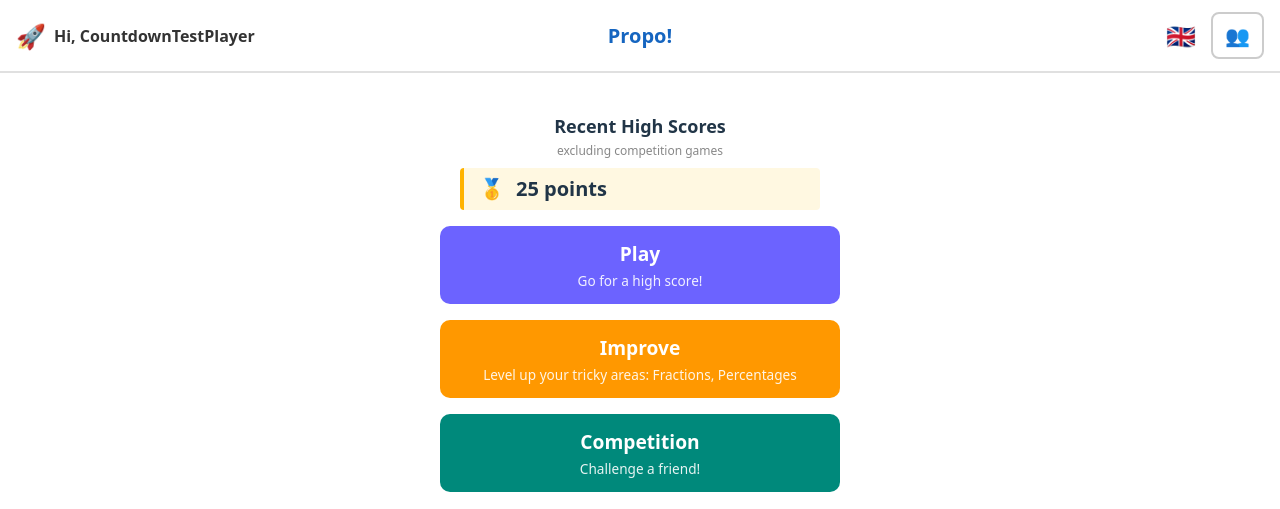
Test: Improve Mode — No Countdown Bar › does not show countdown bar during Improve mode gameplay
This screenshot has width=1280, height=509.
Start Improve mode
Click the button "Improve Level up your tricky areas: Fractions, Percentages" at {"x": 640, "y": 359}, box [440,320,840,398]
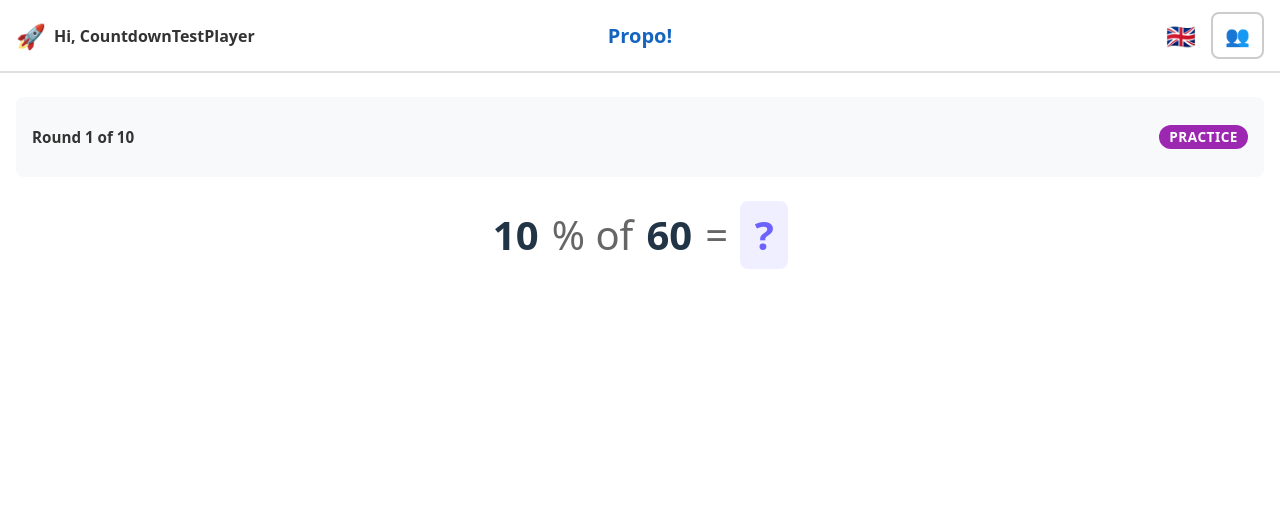
Verify answer submission still works and game records elapsedMs
Type keys "6{Enter}"
Wait 1250 ms
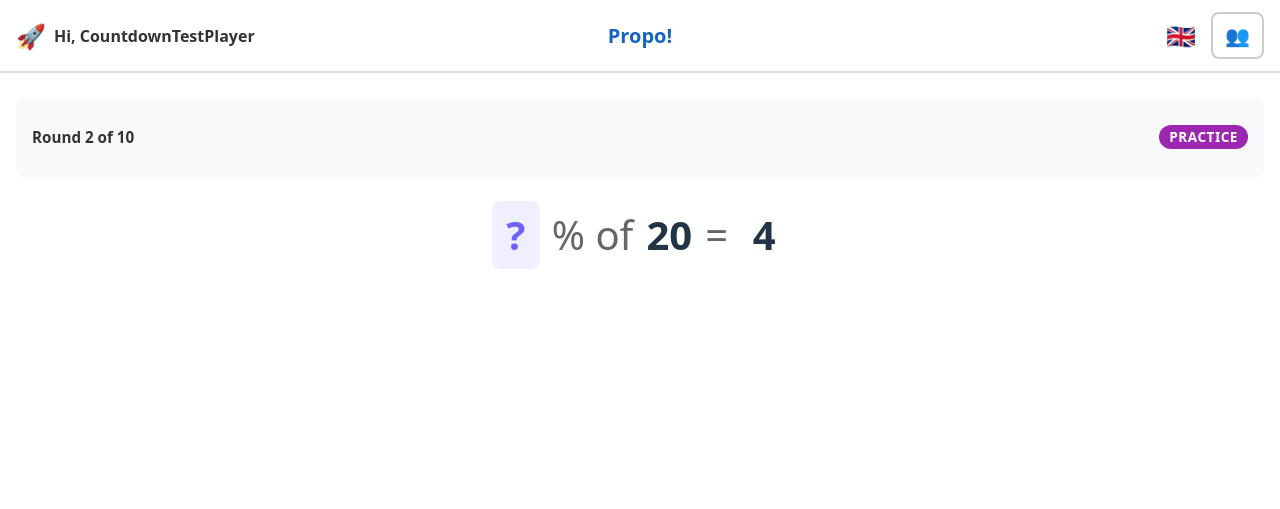
Expected: the text "?" is shown, [492,201,540,269]
